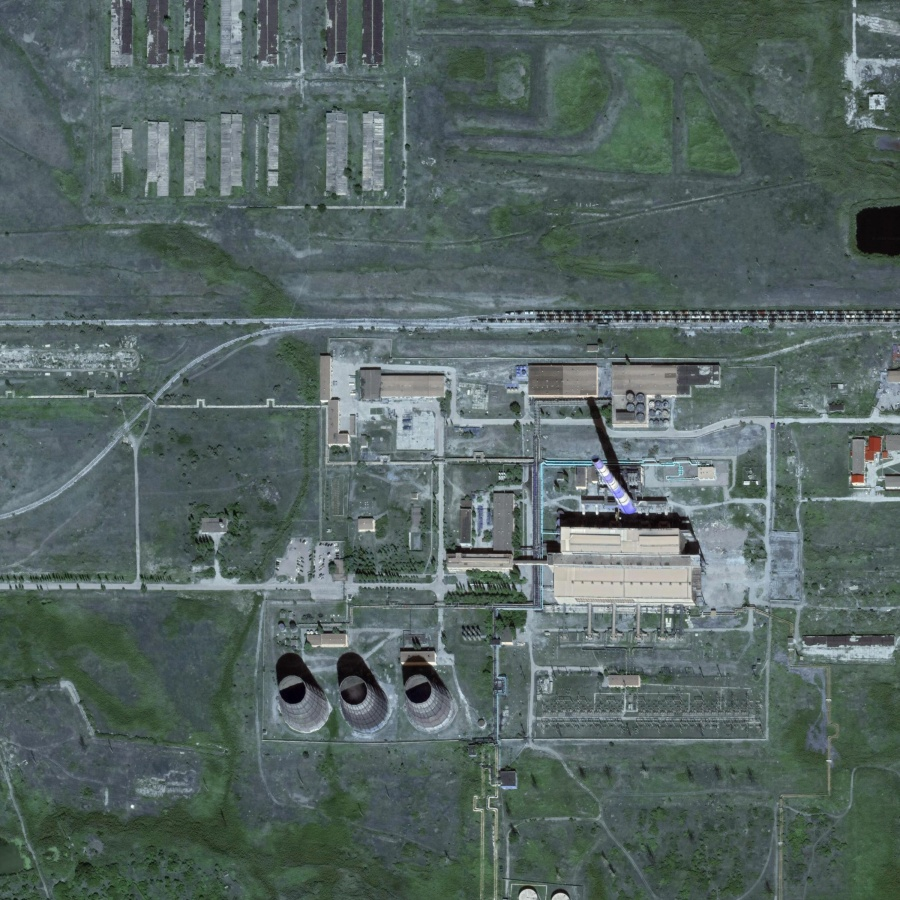PowerPlant: (249, 335, 730, 764)
